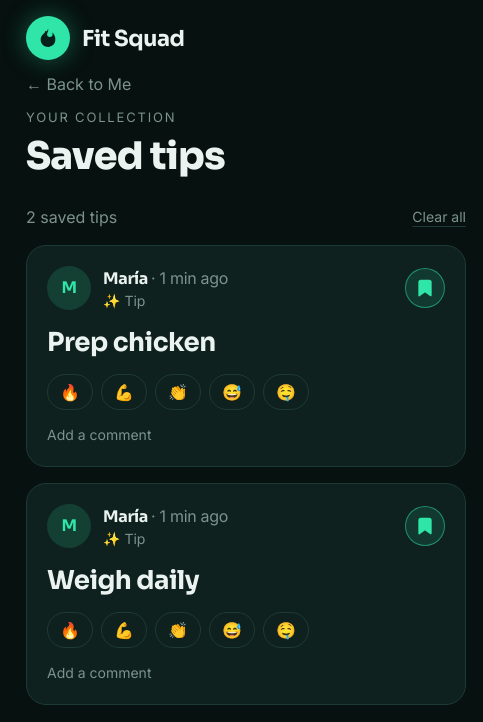
Test: with saved posts › clears the whole list on Clear all
The image size is (483, 722).
Check: the heading "Prep chicken" is shown, box top-left (47, 322), bottom-right (216, 362)
What coordinates should you click on to do the following:
click the button "Clear all"
I would click on:
 (439, 216)
Its box is top-left (412, 206), bottom-right (466, 226).
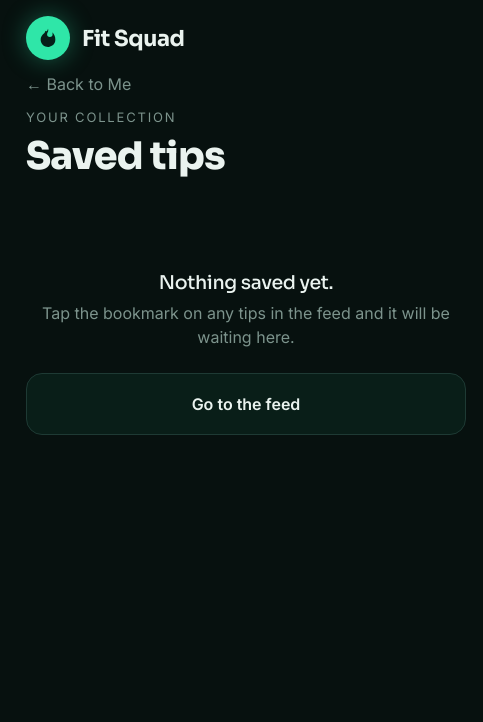
Check: the text "Nothing saved yet." is shown, box top-left (159, 270), bottom-right (333, 294)
